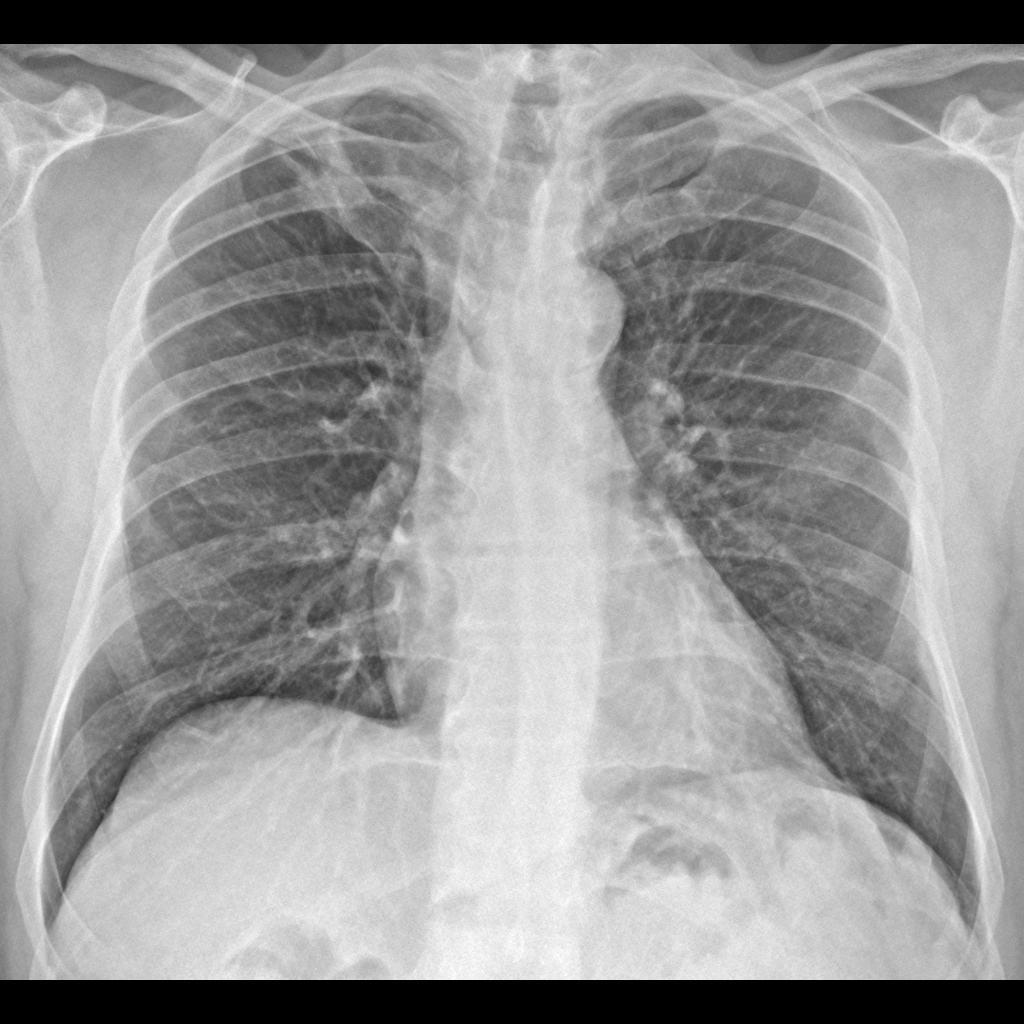Nodule: (280, 155, 380, 235)
